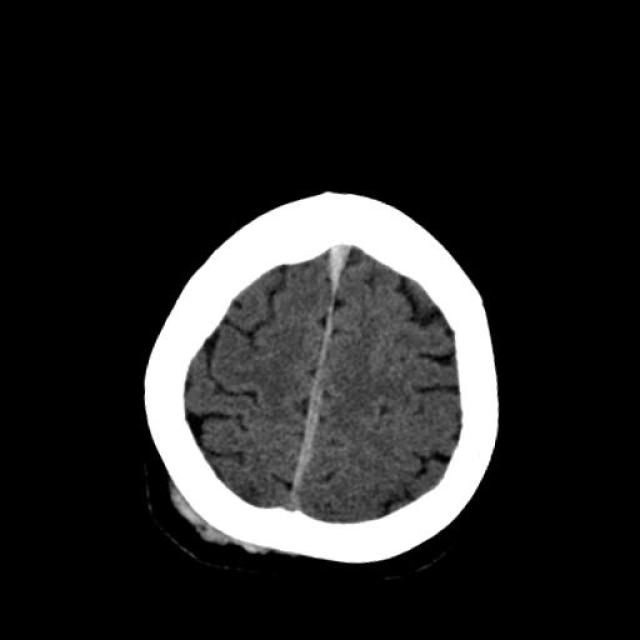Subdural: (251, 232, 380, 540)
